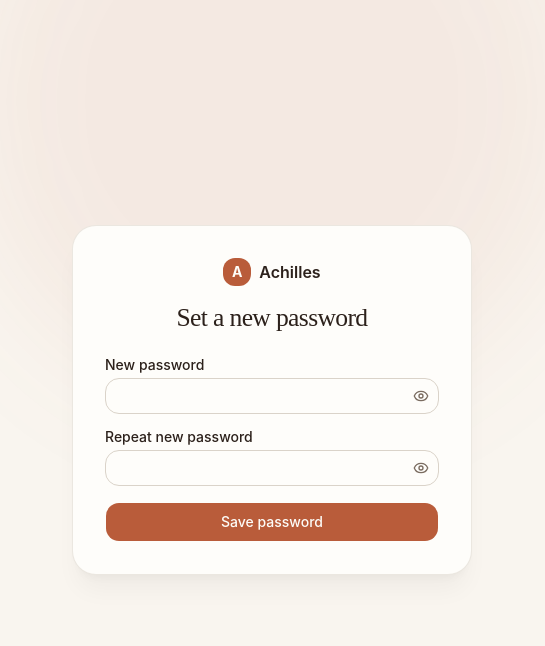
Scenario: ResetPasswordPage › flags a mismatch before any request
Type "a-fresh-passphrase-2026" into the password field labelled "New password" at (272, 396), box [105,378,439,414]
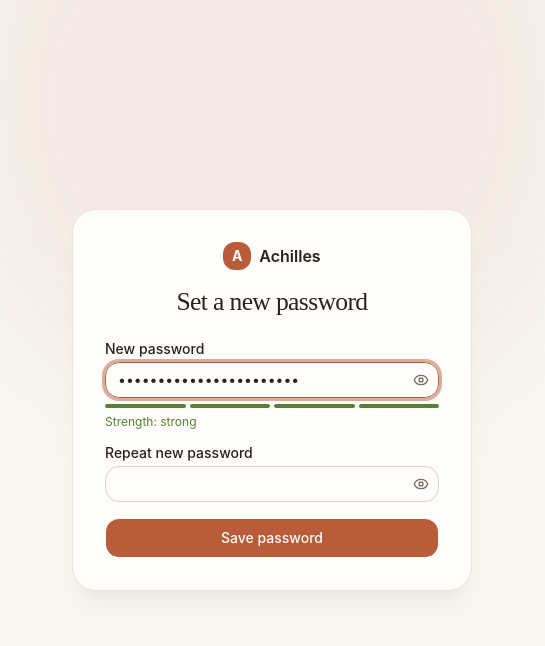
Type "typo-2026" into the password field labelled "Repeat new password" at (272, 484), box [105,466,439,502]
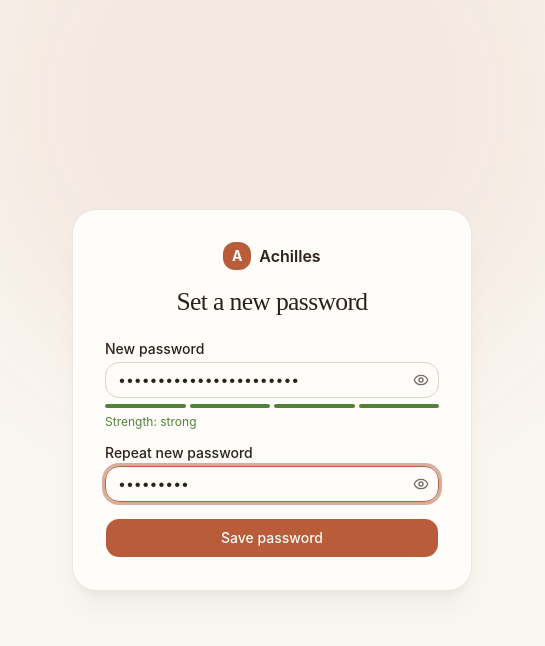
Click the button "Save password" at (272, 538), box [105,518,439,558]
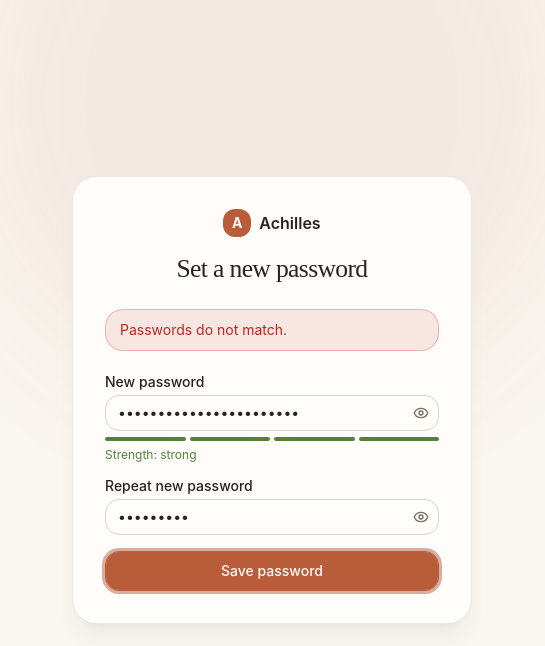
Check: the text "Passwords do not match." is shown, box [105,309,439,351]
